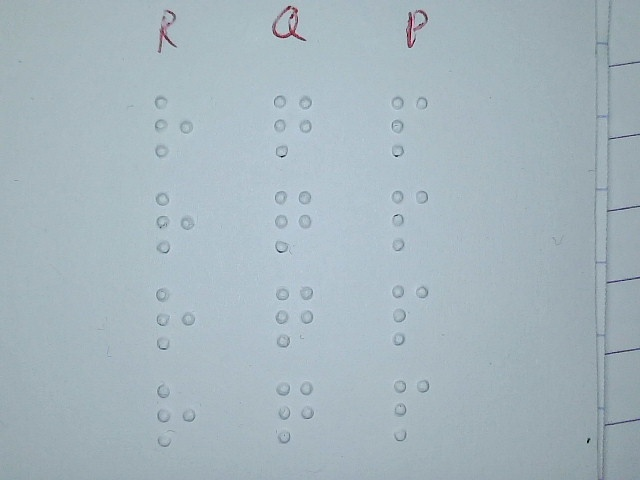P: (388, 93, 432, 159), (388, 186, 432, 252), (389, 280, 433, 346), (390, 376, 434, 442)
Q: (271, 92, 315, 158), (271, 188, 315, 254), (273, 283, 317, 349), (273, 378, 317, 444)
R: (152, 93, 196, 159), (153, 189, 197, 255), (153, 285, 197, 351), (154, 382, 198, 448)
